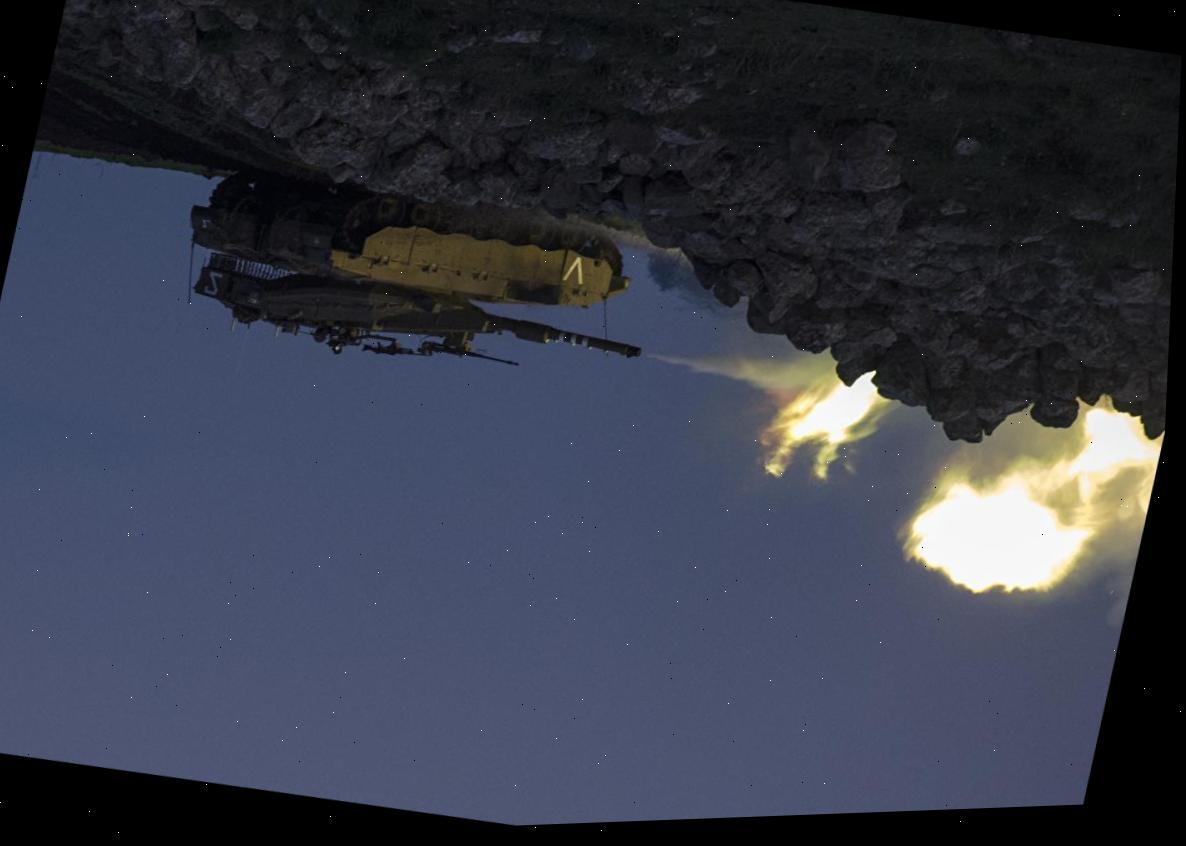tank: (157, 143, 675, 412)
